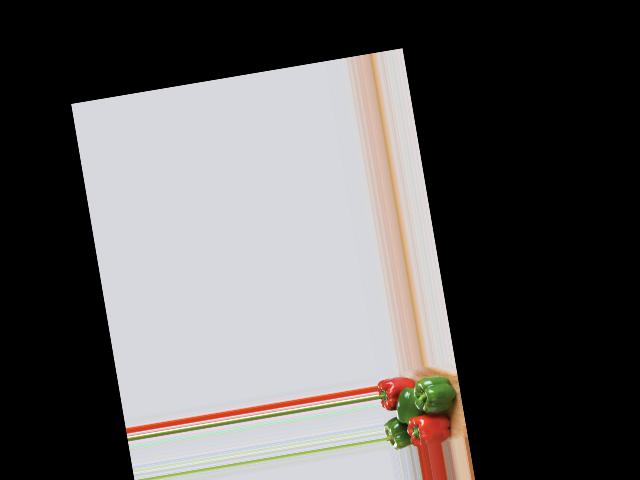bell_pepper: (406, 408, 457, 447)
